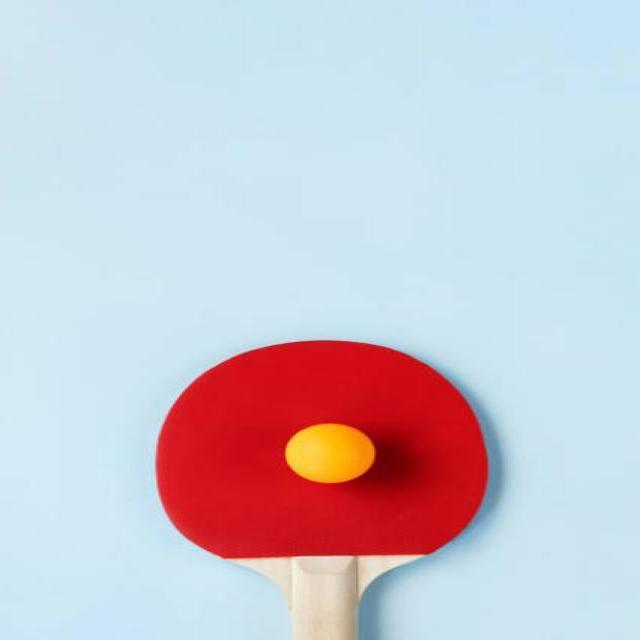oball: (286, 422, 372, 482)
